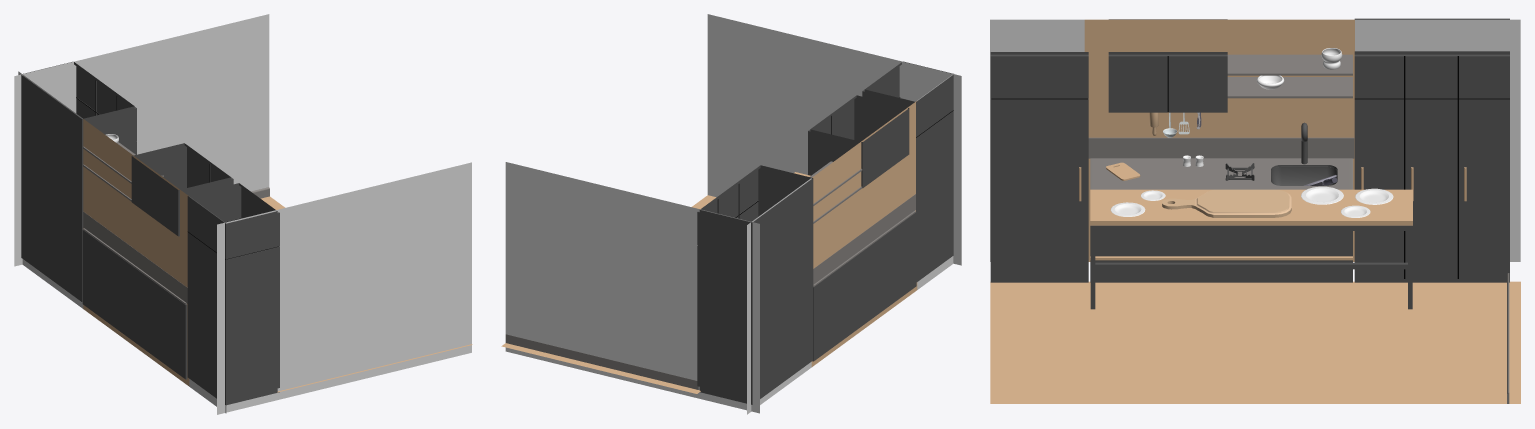
File: kitchen3.glb
The picture shows the model from 3 angles, left to right: view 1: azimuth 30°, elevation 25°; view 2: azimuth 150°, elevation 25°; view 3: azimuth 270°, elevation 25°; orthographic projection. The views are drawn at different scales.
Parts seen in each view (by area): view 1: ROOM, fridge, cupboard_big, cupboard_down, cupboard_up, board; view 2: ROOM, cupboard_big, cupboard_down, fridge, cupboard_up, baseboard, board; view 3: ROOM, cupboard_big, fridge, cupboard_down, Cube.001, cupboard_up, board, board__0.001, shelf_up, shelf_down, Retopo_plate.006, Retopo_plate.008.
Boxes of the visible parts, x1=… form: ROOM: x1=14, y1=14, x2=472, y2=414; fridge: x1=187, y1=183, x2=279, y2=405; cupboard_big: x1=21, y1=61, x2=136, y2=301; cupboard_down: x1=82, y1=228, x2=187, y2=379; cupboard_up: x1=131, y1=143, x2=233, y2=236; board: x1=83, y1=211, x2=187, y2=303; ROOM: x1=501, y1=14, x2=961, y2=414; cupboard_big: x1=697, y1=165, x2=813, y2=404; cupboard_down: x1=812, y1=210, x2=916, y2=361; fridge: x1=862, y1=61, x2=953, y2=281; cupboard_up: x1=808, y1=95, x2=909, y2=188; baseboard: x1=505, y1=334, x2=698, y2=389; board: x1=813, y1=194, x2=915, y2=284; ROOM: x1=990, y1=19, x2=1520, y2=403; cupboard_big: x1=1354, y1=18, x2=1509, y2=282; fridge: x1=990, y1=52, x2=1088, y2=282; cupboard_down: x1=1090, y1=158, x2=1352, y2=282; Cube.001: x1=1090, y1=189, x2=1412, y2=309; cupboard_up: x1=1108, y1=19, x2=1227, y2=112; board: x1=1088, y1=137, x2=1354, y2=158; board__0.001: x1=1162, y1=189, x2=1291, y2=217; shelf_up: x1=1227, y1=54, x2=1352, y2=75; shelf_down: x1=1227, y1=77, x2=1352, y2=98; Retopo_plate.006: x1=1301, y1=186, x2=1343, y2=204; Retopo_plate.008: x1=1355, y1=188, x2=1393, y2=204.
Size of the model in its own units: 6.01 by 4.29 by 8.5.
